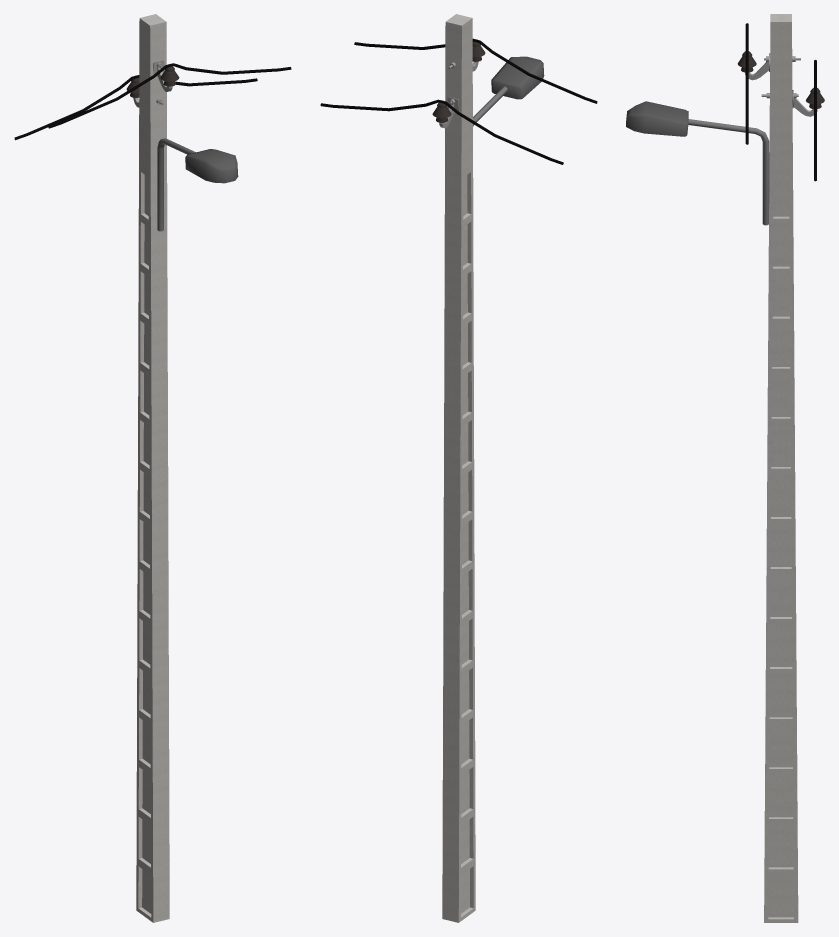
File: poteau-en-beton.obj
3 renders of one model, left to right at view 1: azimuth 30°, elevation 25°; view 2: azimuth 150°, elevation 25°; view 3: azimuth 270°, elevation 25°, orthographic.
Parts seen in each view (by area): view 1: Cube.001_Cube.003, Wires_Circle.003, Lamp_Plane, Lamp.001; view 2: Cube.001_Cube.003, Wires_Circle.003, Lamp_Plane; view 3: Cube.001_Cube.003, Lamp_Plane, Lamp.001, Wires_Circle.003.
Boxes of the visible parts, x1,y1,x2,y2 form: Cube.001_Cube.003: [136, 14, 169, 922]; Wires_Circle.003: [14, 63, 291, 140]; Lamp_Plane: [185, 149, 238, 183]; Lamp.001: [157, 138, 195, 231]; Cube.001_Cube.003: [442, 14, 475, 922]; Wires_Circle.003: [320, 38, 597, 164]; Lamp_Plane: [491, 56, 544, 99]; Cube.001_Cube.003: [764, 14, 798, 922]; Lamp_Plane: [626, 101, 688, 136]; Lamp.001: [688, 119, 769, 225]; Wires_Circle.003: [745, 23, 816, 181].
Size of the model in its own units: 340 by 1202 by 241.
12 materials, 1 textured.
